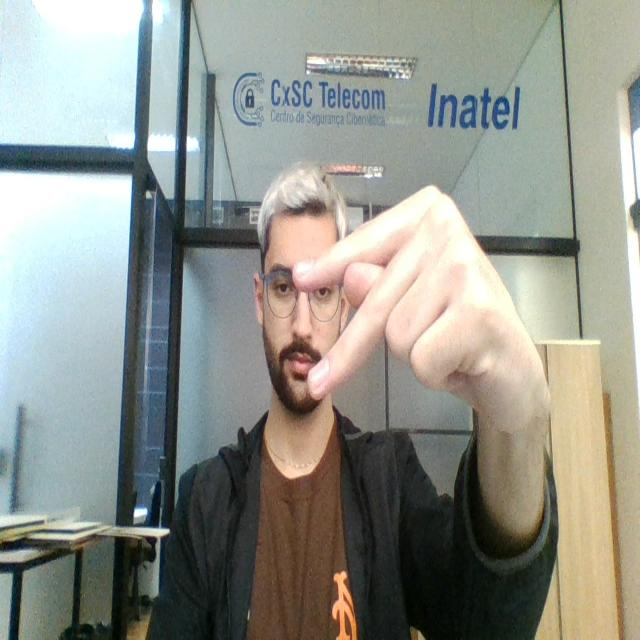P: (292, 182, 550, 430)
